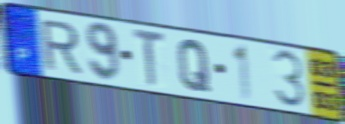1: (232, 42, 252, 105)
3: (269, 47, 307, 110)
9: (85, 20, 123, 85)
Q: (176, 37, 212, 95)
R: (39, 18, 84, 75)
T: (131, 27, 167, 90)
